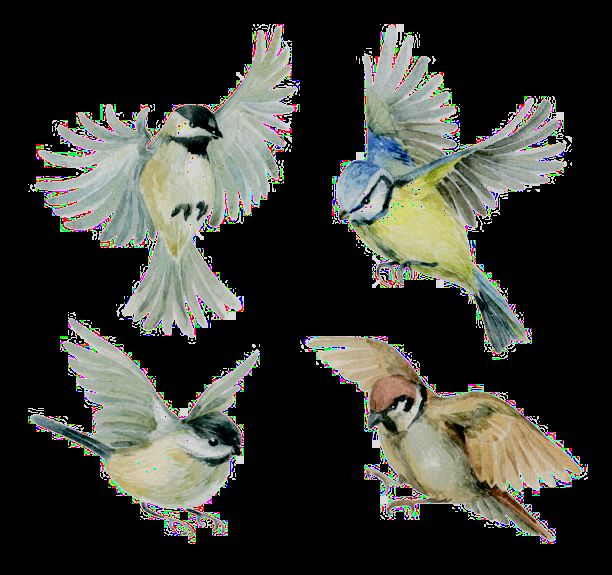Bird: (19, 15, 311, 344), (329, 14, 575, 366), (301, 330, 592, 548), (27, 311, 262, 556)
